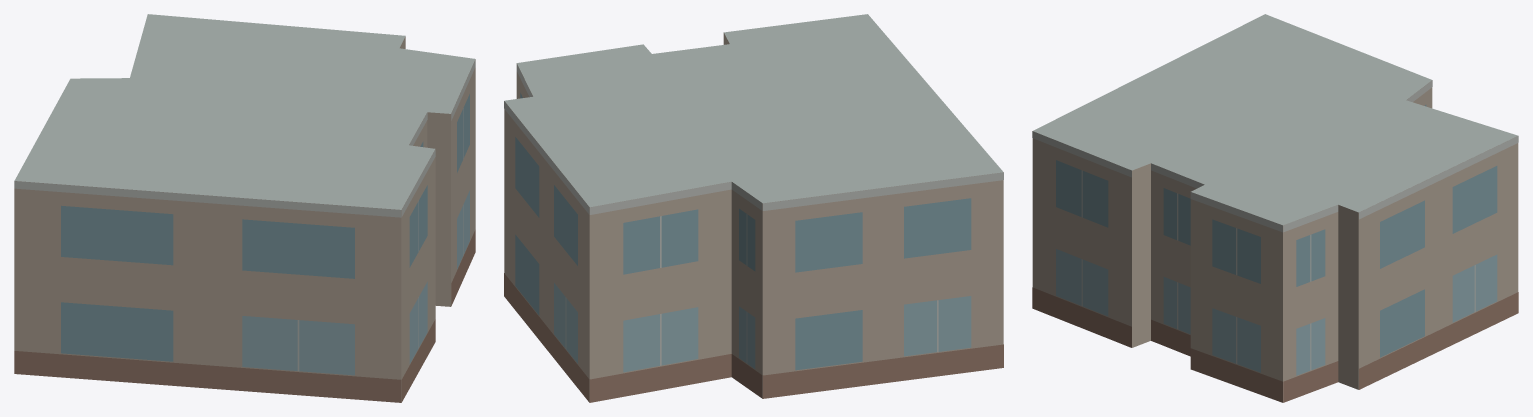
Rendered from survey-upis-32773200.glb.
3 renders of one model, left to right at view 1: azimuth 30°, elevation 25°; view 2: azimuth 150°, elevation 25°; view 3: azimuth 270°, elevation 25°, orthographic. The views are drawn at different scales.
Visible parts, largest first — view 1: survey-upis-32773200.tmp; view 2: survey-upis-32773200.tmp; view 3: survey-upis-32773200.tmp.
Boxes of the visible parts, x1=… form: survey-upis-32773200.tmp: x1=14, y1=14, x2=475, y2=402; survey-upis-32773200.tmp: x1=504, y1=14, x2=1003, y2=402; survey-upis-32773200.tmp: x1=1032, y1=14, x2=1518, y2=402.
Size of the model in its own units: 15.59 by 6.1 by 15.14.
